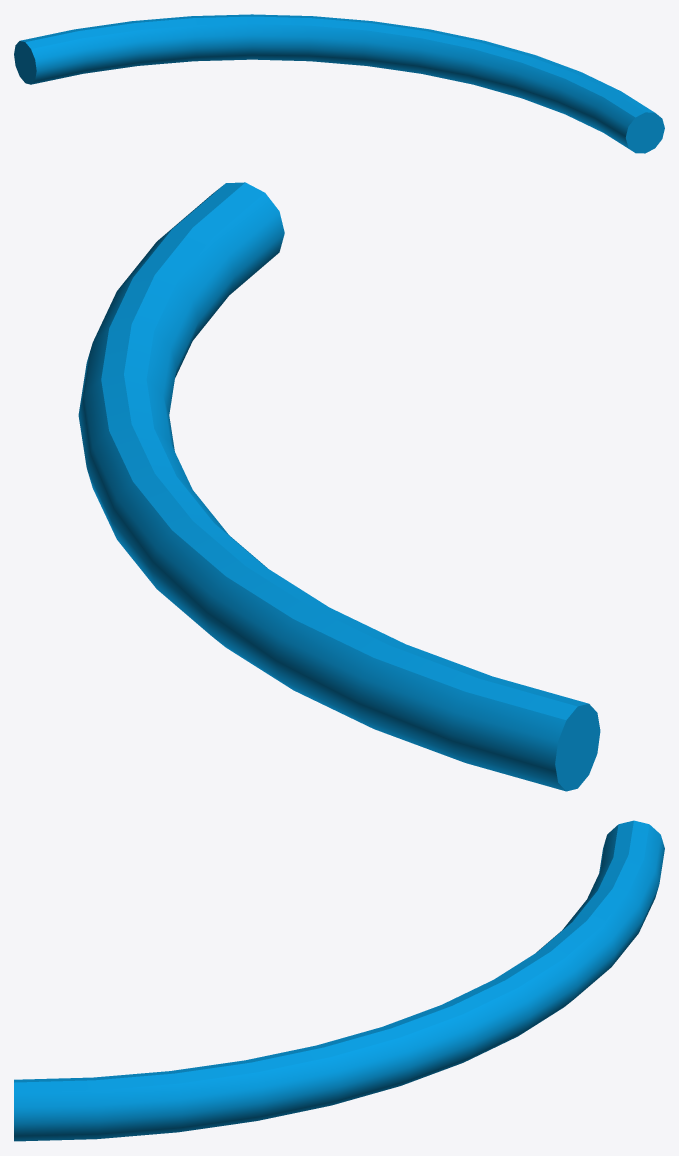
Rendered from JustHulaHoopToBreak.fbx.
3 views of the same model, one above another, from view 1: azimuth 30°, elevation 25°; view 2: azimuth 150°, elevation 25°; view 3: azimuth 270°, elevation 25° (orthographic). The views are drawn at different scales.
Parts seen in each view (by area): view 1: ToBreakHulaHoop; view 2: ToBreakHulaHoop; view 3: ToBreakHulaHoop.
Part boxes in pixels (left/top/right/bottom): ToBreakHulaHoop: left=14, top=14, right=664, bottom=153; ToBreakHulaHoop: left=78, top=182, right=600, bottom=791; ToBreakHulaHoop: left=14, top=820, right=664, bottom=1141.
Size of the model in its own units: 105 by 10 by 105.
